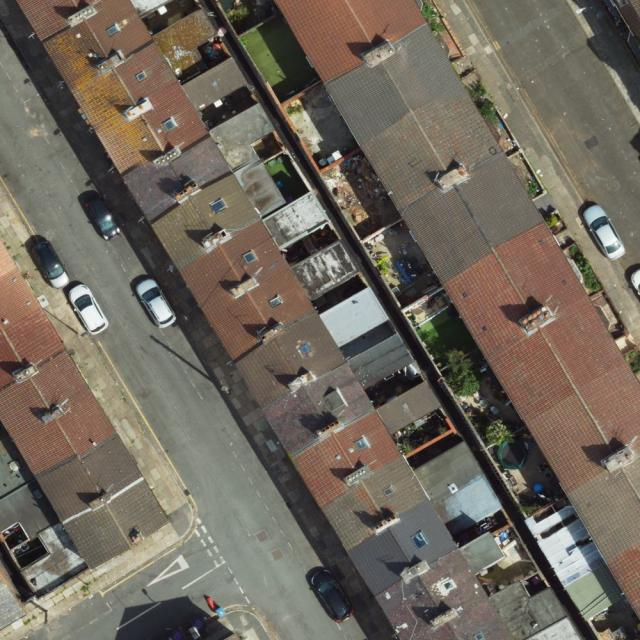roof: (14, 0, 585, 640), (275, 0, 640, 624), (1, 241, 170, 601)
skylight: (410, 529, 431, 551), (209, 198, 229, 216), (440, 576, 459, 594), (160, 117, 180, 133), (353, 436, 371, 453), (241, 250, 260, 266), (381, 482, 397, 499), (105, 22, 123, 37), (134, 69, 150, 85), (267, 295, 285, 309), (298, 341, 314, 356), (473, 630, 488, 640)
